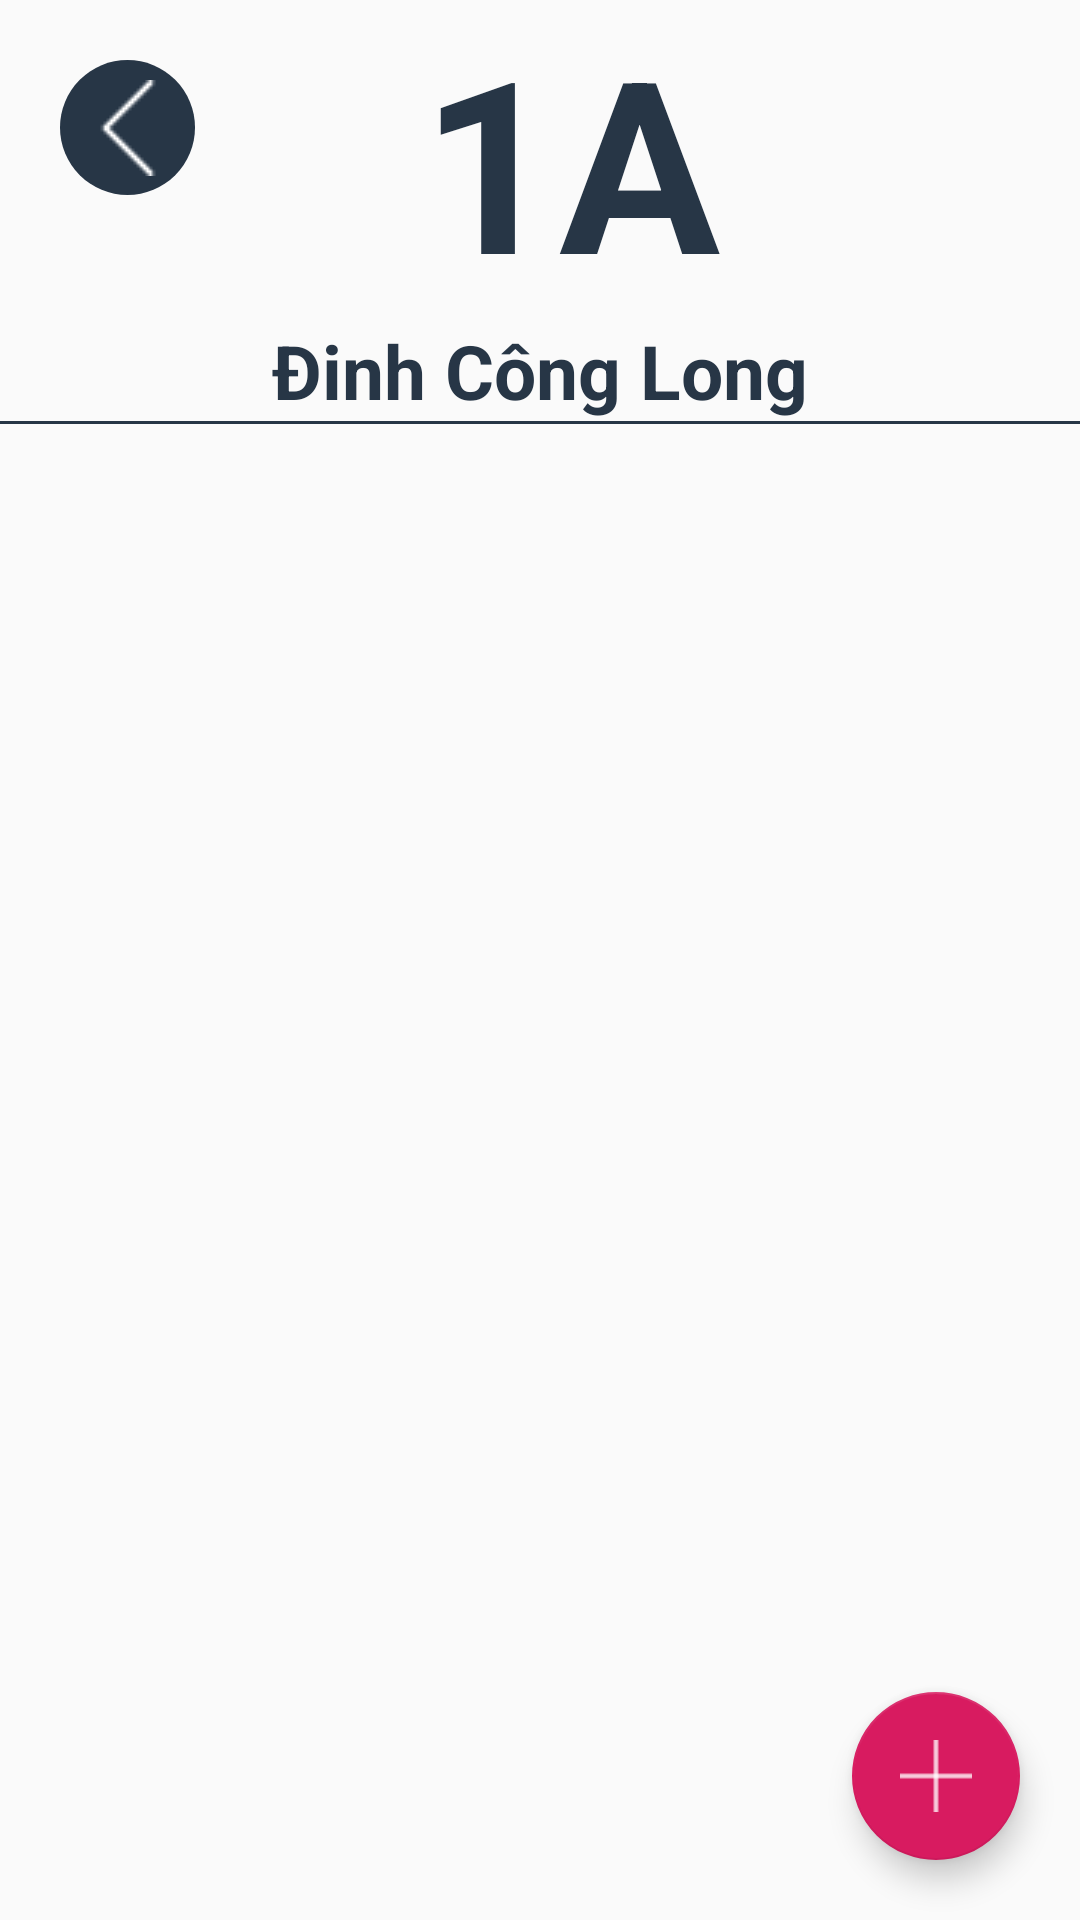

Screen size 1080w x 1920h. Icon name, then its box in pixels as (x1, y1, x2, y2):
add student: (852, 1692, 1020, 1860)
back: (60, 60, 195, 195)
